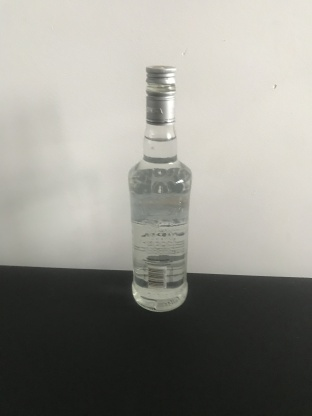nakretka: (144, 66, 177, 126)
